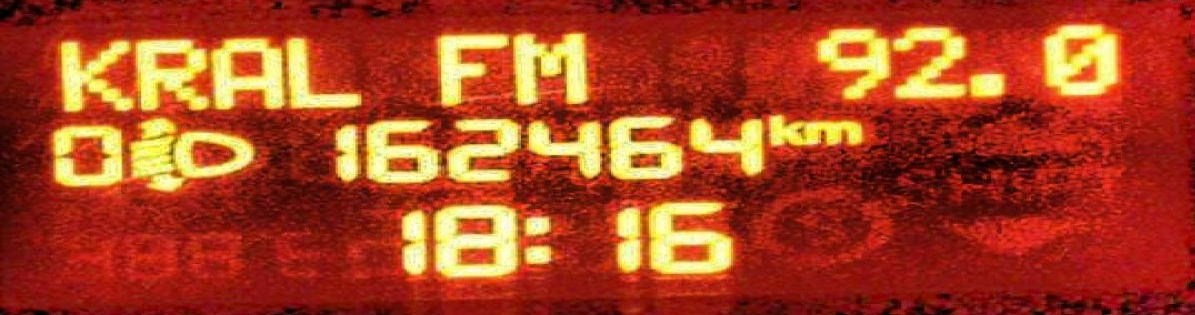-: (964, 71, 1006, 97)
0: (1038, 22, 1120, 95), (48, 123, 122, 186)
1: (608, 204, 642, 274), (395, 207, 428, 275), (329, 121, 360, 181)
2: (889, 25, 967, 99), (444, 116, 519, 181)
4: (684, 116, 764, 176), (524, 118, 602, 179)
6: (644, 199, 737, 275), (604, 114, 682, 179), (362, 117, 440, 182)
8: (429, 201, 520, 277)
9: (813, 26, 888, 100)
X: (507, 31, 589, 105), (209, 35, 287, 110), (55, 37, 133, 111), (286, 35, 362, 110), (133, 36, 208, 109), (433, 31, 506, 106), (517, 212, 553, 265), (802, 119, 860, 145), (766, 111, 804, 145)
